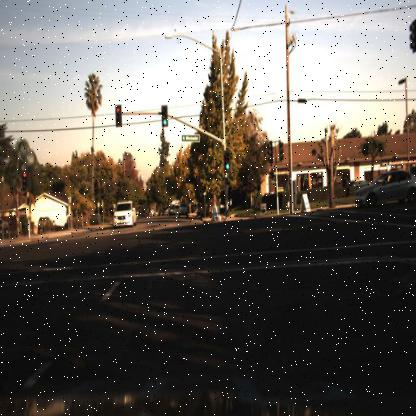car: (352, 170, 414, 206), (112, 200, 138, 231), (36, 214, 57, 234), (166, 201, 180, 221), (177, 202, 191, 218)
trafficLight-Green: (221, 148, 230, 174), (160, 102, 168, 128)
trafficLight-RedLeft: (20, 169, 30, 192), (115, 104, 123, 128), (21, 170, 29, 192)
